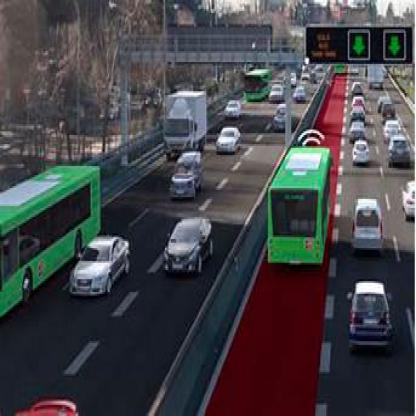bus: (3, 169, 101, 284), (270, 146, 330, 268), (244, 70, 273, 105)
car: (70, 233, 131, 297), (347, 278, 395, 355), (164, 216, 216, 275), (353, 196, 385, 255), (167, 156, 204, 200), (389, 133, 411, 173), (401, 180, 416, 234), (218, 127, 245, 154), (349, 144, 371, 166), (273, 107, 290, 134), (227, 104, 245, 122), (271, 85, 289, 103), (350, 124, 366, 142), (383, 120, 401, 136), (384, 102, 398, 122), (350, 109, 365, 125), (294, 89, 306, 105), (349, 83, 364, 94), (353, 96, 364, 109), (376, 96, 390, 105), (298, 78, 308, 87)
truck: (166, 94, 211, 156), (370, 65, 387, 94)
